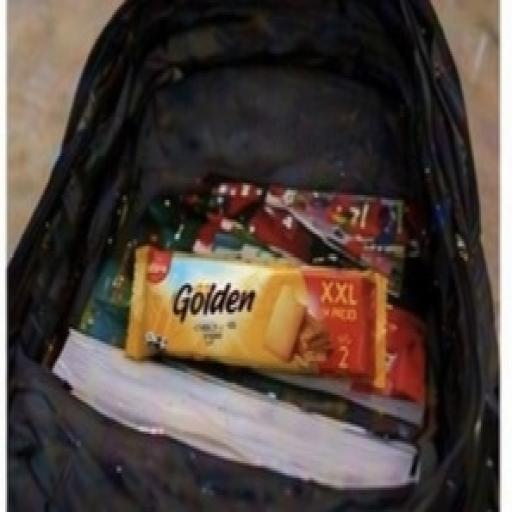golden: (106, 194, 418, 441)
